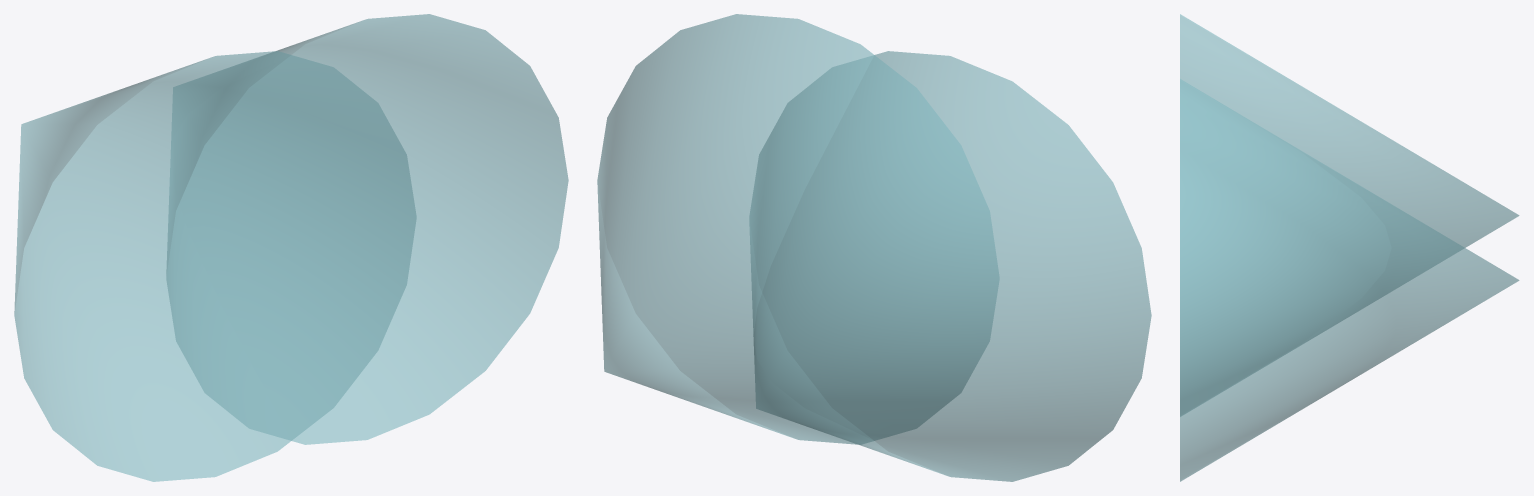
Rendered from Gabarit_lights_Bleu.fbx.
3 renders of one model, left to right at view 1: azimuth 30°, elevation 25°; view 2: azimuth 150°, elevation 25°; view 3: azimuth 270°, elevation 25°, orthographic. The views are drawn at different scales.
Parts seen in each view (by area): view 1: Gabarit_Lampe_Bleu, pCone2; view 2: Gabarit_Lampe_Bleu, pCone2; view 3: pCone2, Gabarit_Lampe_Bleu.
Boxes of the visible parts, x1,y1,x2,y2 form: Gabarit_Lampe_Bleu: (14, 51, 416, 481); pCone2: (166, 14, 568, 444); Gabarit_Lampe_Bleu: (749, 51, 1151, 481); pCone2: (597, 14, 999, 444); pCone2: (1180, 79, 1519, 481); Gabarit_Lampe_Bleu: (1180, 14, 1519, 416).
Bounding box in the file's own units: 1971 × 1431 × 1197.
